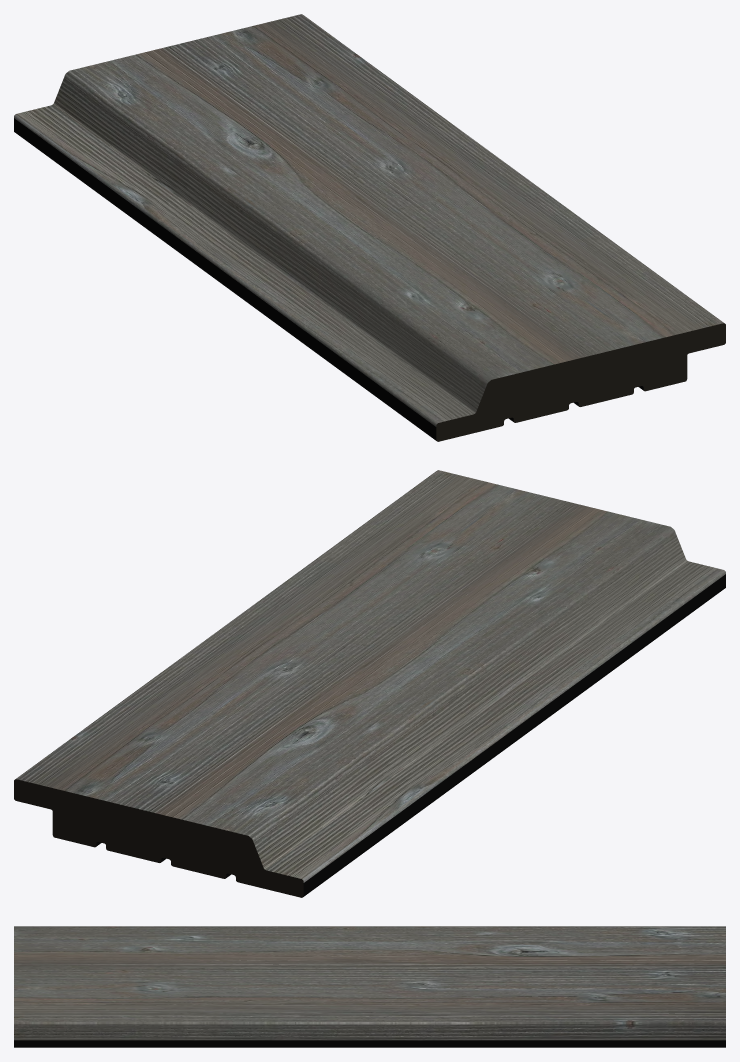
File: spruce-facade-half-tongue-silver.glb
3 renders of one model, top to bottom at view 1: azimuth 30°, elevation 25°; view 2: azimuth 150°, elevation 25°; view 3: azimuth 270°, elevation 25°, orthographic. The views are drawn at different scales.
Visible parts, largest first — view 1: Pusė_Špunto; view 2: Pusė_Špunto; view 3: Pusė_Špunto.
Part boxes in pixels (x1,y1,x2,y2): Pusė_Špunto: (14,14,725,441); Pusė_Špunto: (14,470,725,897); Pusė_Špunto: (14,926,725,1047).
Size of the model in its own units: 0.0723 by 0.0117 by 0.1826.
3 materials, 1 textured.
